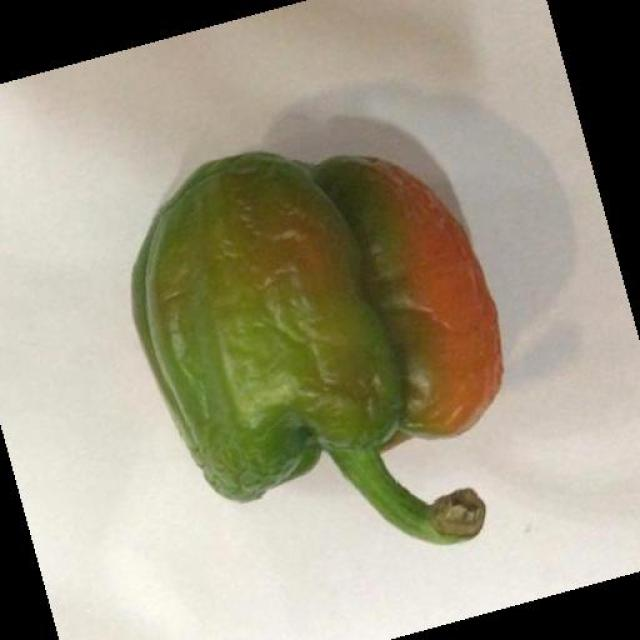Stale_Capsicum: (102, 139, 534, 556)
